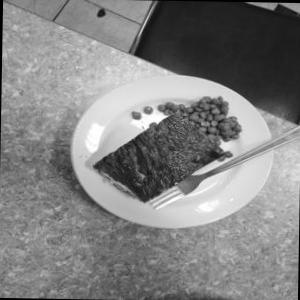casserole: (94, 87, 242, 208)
